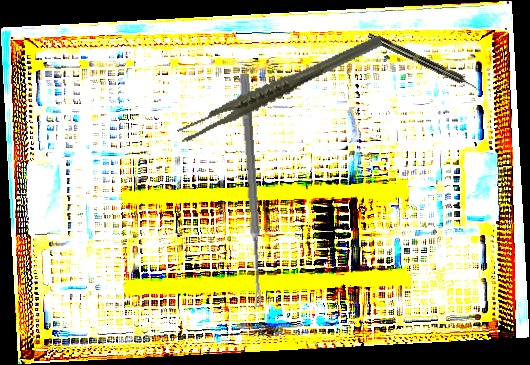Handpiece: (366, 30, 480, 93)
Surgical Spoon: (237, 73, 266, 308)
Tissue Forceps: (166, 33, 394, 145)
